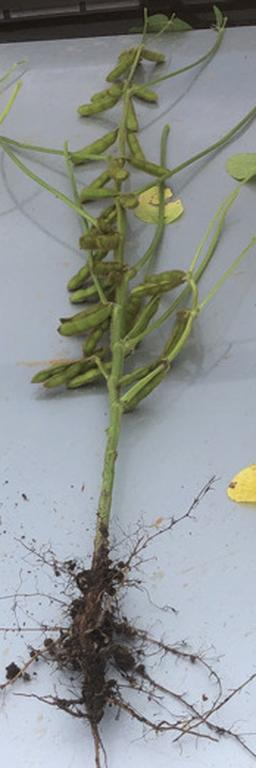pod: (57, 305, 115, 335), (66, 362, 113, 391), (125, 156, 172, 178), (65, 263, 93, 291), (130, 80, 160, 104), (126, 132, 146, 162), (141, 45, 166, 64)
soy: (29, 32, 204, 756)
